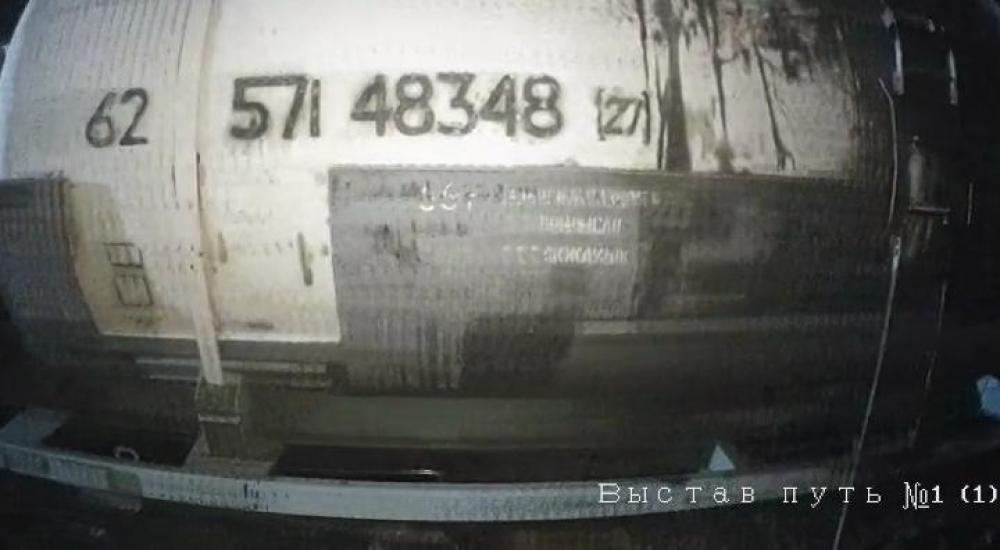Wagon-number: (225, 69, 568, 142)
